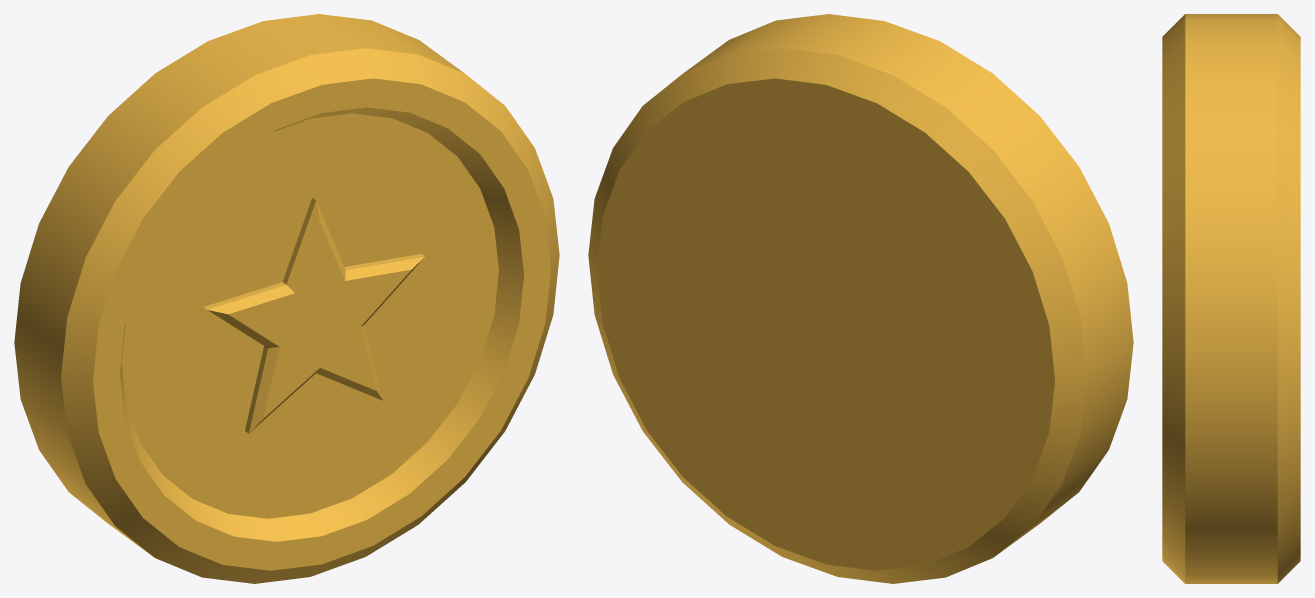
The model's file is coin.glb.
The picture shows the model from 3 angles, left to right: view 1: azimuth 30°, elevation 25°; view 2: azimuth 150°, elevation 25°; view 3: azimuth 270°, elevation 25°; orthographic projection.
Parts seen in each view (by area): view 1: Coin; view 2: Coin; view 3: Coin.
Part boxes in pixels (box(x1,y1,x2,y2)): Coin: box(14, 14, 559, 583); Coin: box(588, 14, 1133, 583); Coin: box(1162, 14, 1300, 583).
Bounding box in the file's own units: 0.74 × 0.74 × 0.18.
